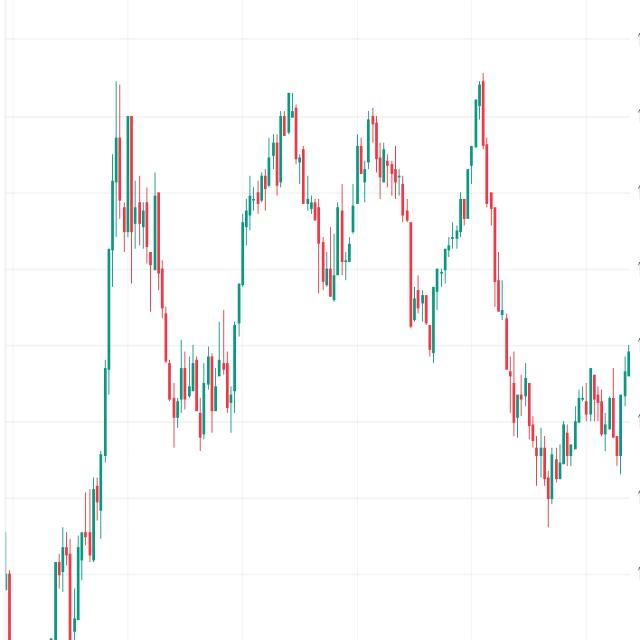Triple-Bottom: (153, 341, 253, 444)
Triple-Top: (225, 66, 524, 319)
